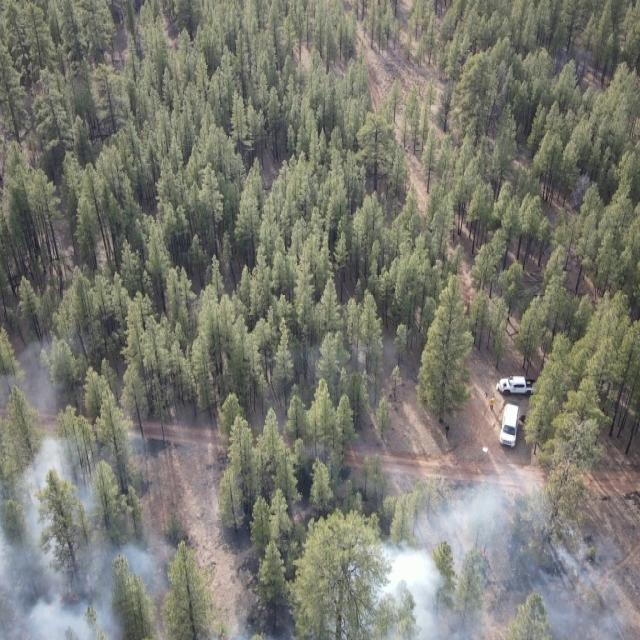fire: (476, 548, 494, 564)
smoke: (333, 462, 640, 640), (0, 337, 175, 640), (282, 332, 409, 468), (215, 615, 311, 640)
